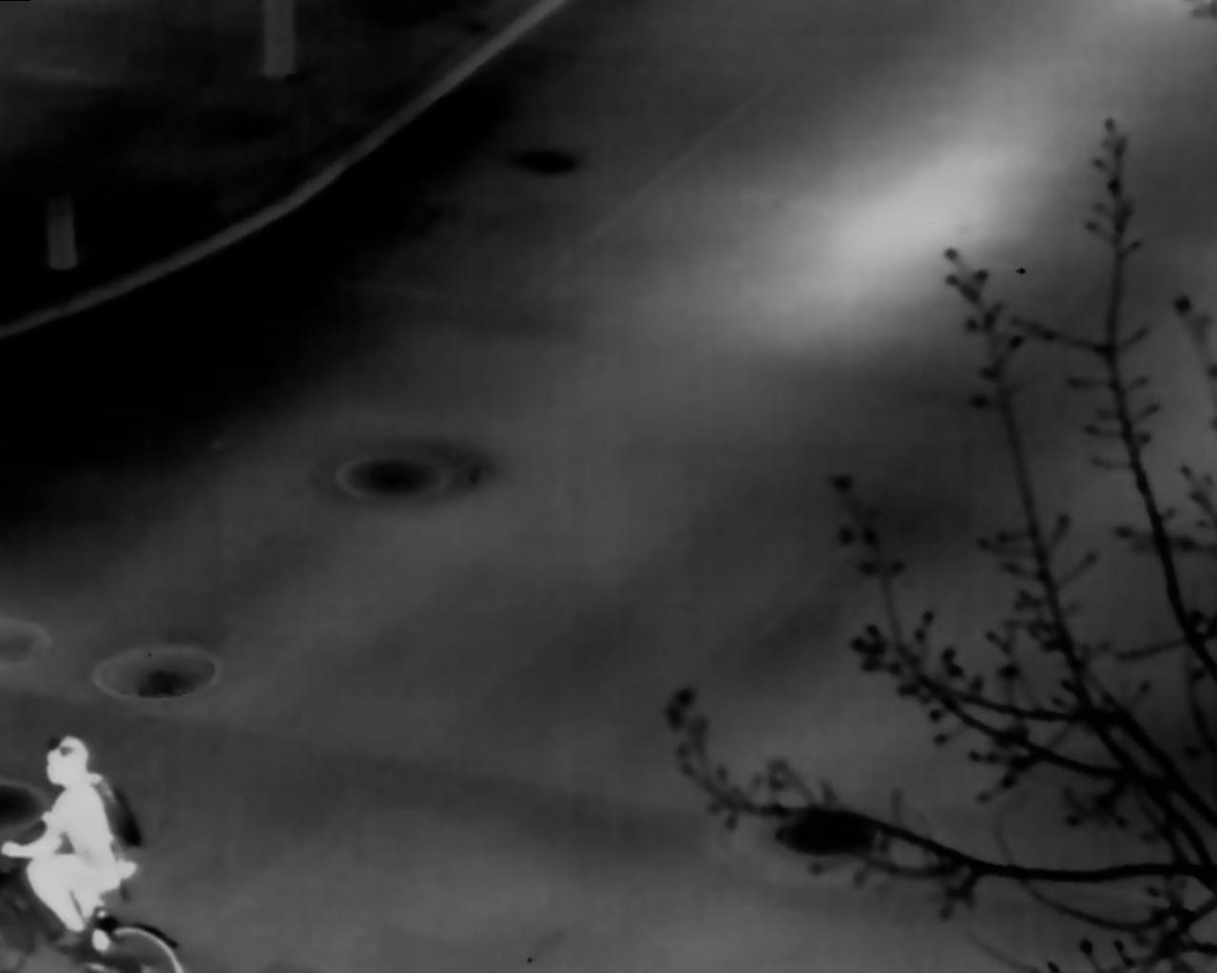person: (20, 742, 147, 943)
